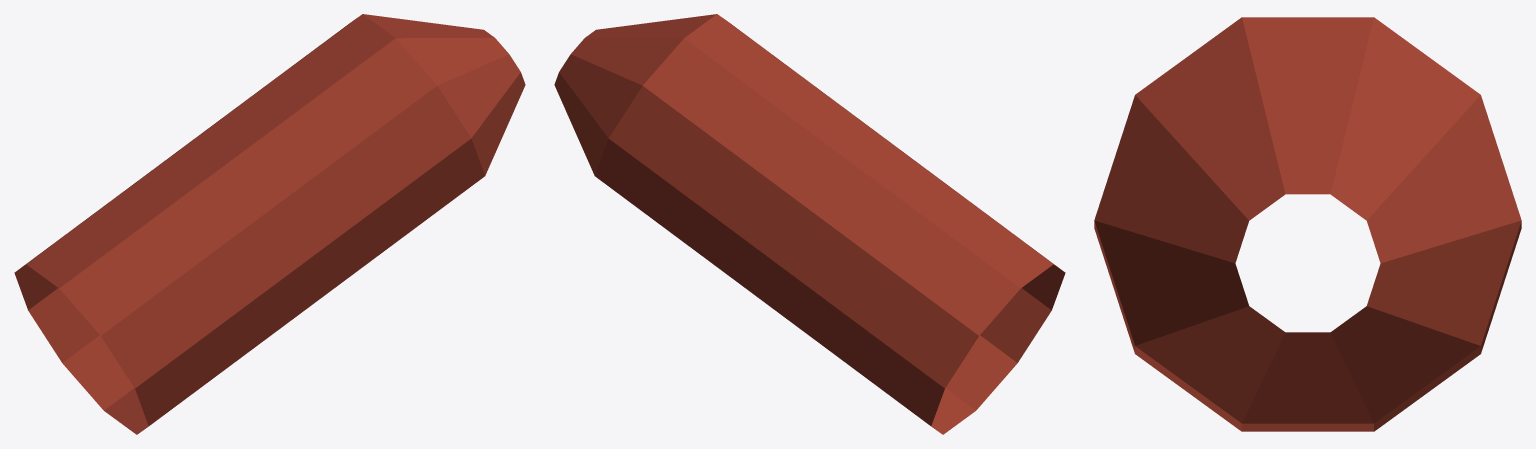
The model's file is Mothership_02_Joint_Red.fbx.
The picture shows the model from 3 angles, left to right: view 1: azimuth 30°, elevation 25°; view 2: azimuth 150°, elevation 25°; view 3: azimuth 270°, elevation 25°; orthographic projection. The views are drawn at different scales.
Parts seen in each view (by area): view 1: Mothership_02_Joint_Red; view 2: Mothership_02_Joint_Red; view 3: Mothership_02_Joint_Red.
Boxes of the visible parts, left/top/right/bottom form: Mothership_02_Joint_Red: left=14, top=14, right=525, bottom=434; Mothership_02_Joint_Red: left=554, top=14, right=1065, bottom=434; Mothership_02_Joint_Red: left=1094, top=17, right=1521, bottom=431.
Bounding box in the file's own units: 231 × 155 × 90.16.
1 material, 1 textured.
